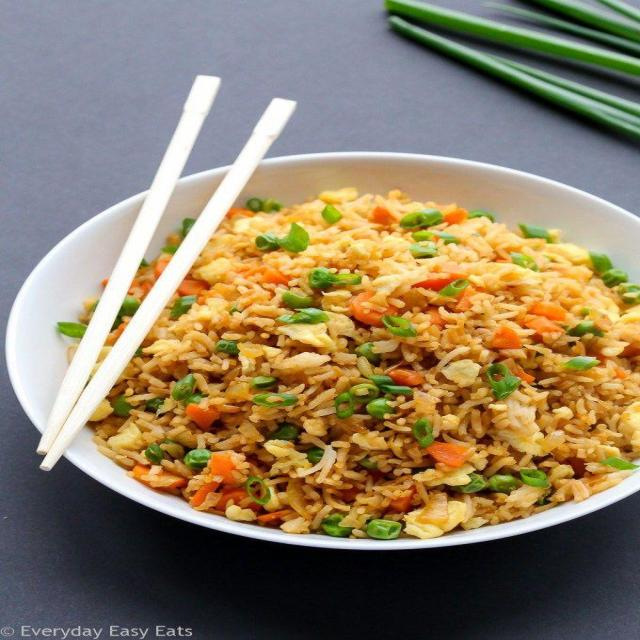Nasi Goreng: (64, 186, 638, 541)
